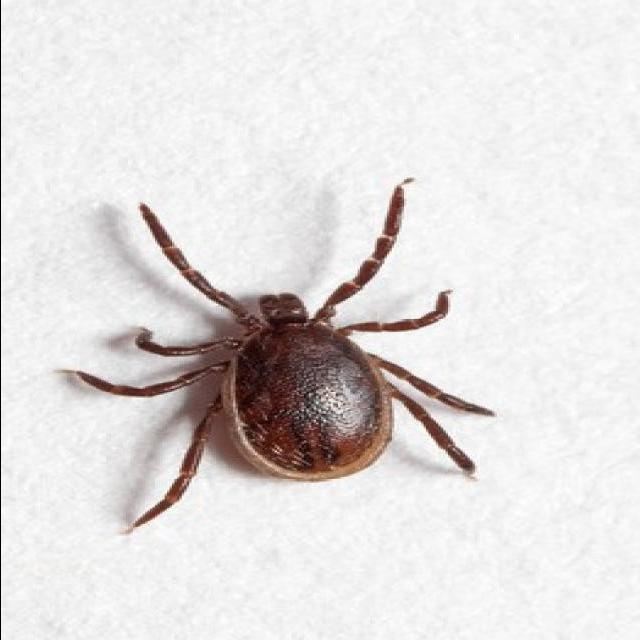Ixodes Ricinus-M: (64, 181, 491, 531)
